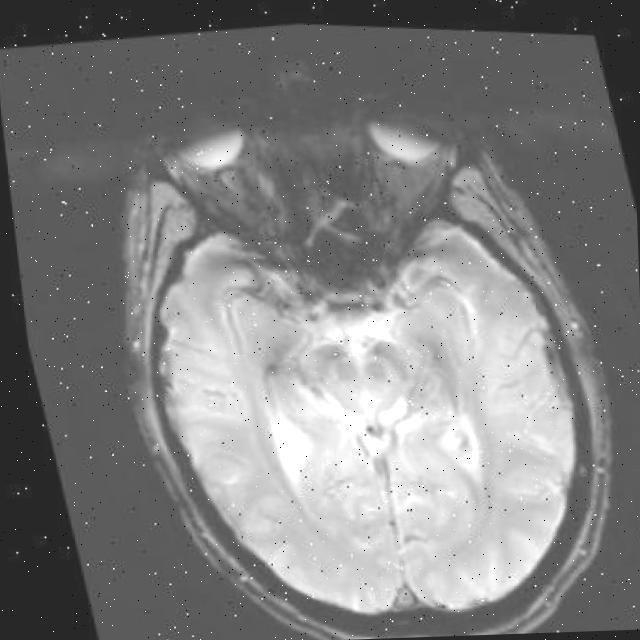MCI: (234, 390, 324, 480), (424, 397, 484, 500)
